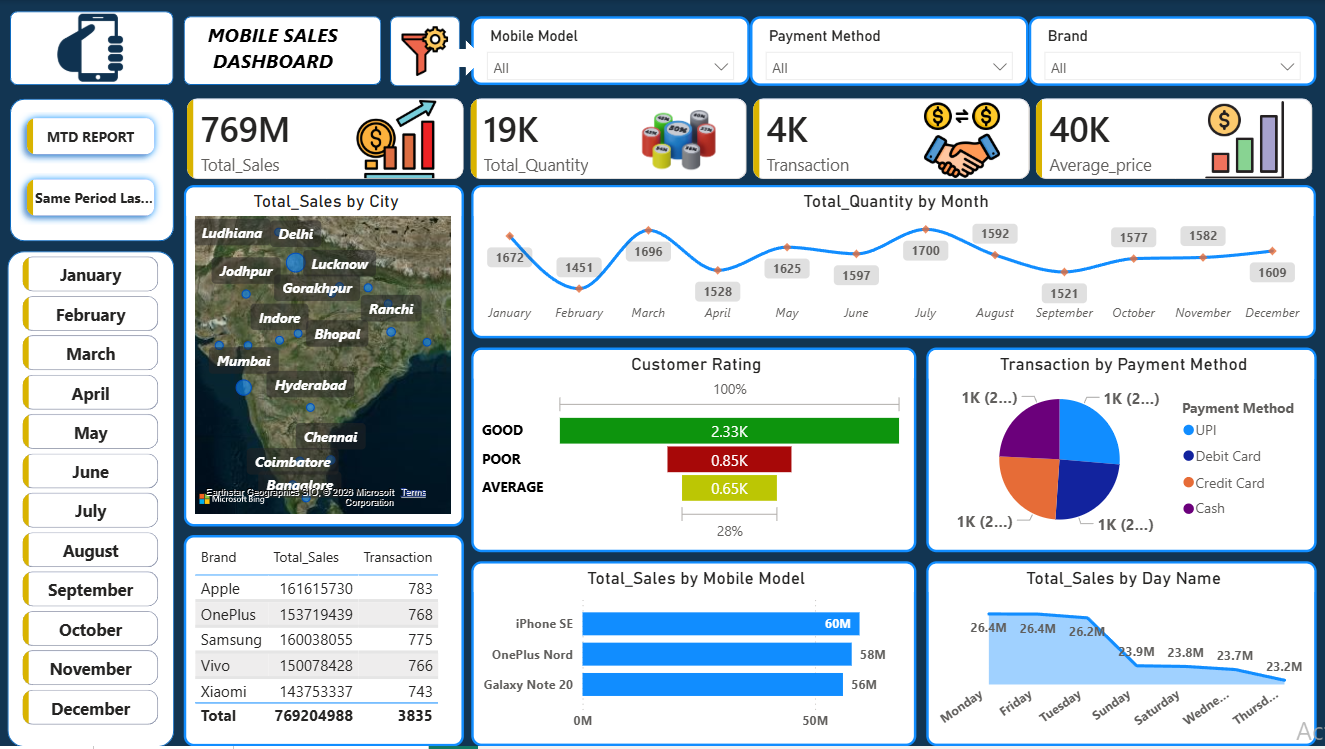

This screenshot's page, from the dashboard's own definition file:
{"tool":"powerbi","page":{"name":"DASHBOARD","canvas":[1280,720],"ordinal":0},"visuals":[{"type":"shape","box":[9.6,11,157.8,71.4],"z":0},{"type":"image","box":[52.1,13.7,70,65.9],"z":1000},{"type":"shape","box":[9.6,94.9,158.1,137.5],"z":2000},{"type":"shape","box":[6.9,242,160.9,478.6],"z":3000},{"type":"advancedSlicerVisual","fields":{"Values":["custom_calender.Date.Variation.Date Hierarchy.Month"]},"box":[16.5,242,141.6,466.2],"z":4000},{"type":"cardVisual","fields":{"Data":["Mobile_Sales_Data.Total_Sales","Mobile_Sales_Data.Total_Quantity","Mobile_Sales_Data.Transaction","Mobile_Sales_Data.Average_price"]},"box":[167.7,82,1112.3,105],"z":5000},{"type":"slicer","fields":{"Values":["Mobile_Sales_Data.Mobile Model"]},"box":[454.8,15.7,269,66.4],"z":6000},{"type":"slicer","fields":{"Values":["Mobile_Sales_Data.Payment Method"]},"box":[723.9,15.7,269,67.6],"z":7000},{"type":"slicer","fields":{"Values":["Mobile_Sales_Data.Brand"]},"box":[992.9,15.7,277.5,67.6],"z":8000},{"type":"shape","box":[376.4,15.7,67.6,67.6],"z":9000},{"type":"image","box":[376.4,25.3,67.6,48.3],"z":10000},{"type":"shape","box":[428.3,38.6,38.6,35],"z":11000},{"type":"shape","box":[177.3,15.7,190.6,66.4],"z":12000},{"type":"textbox","box":[195.4,15.7,172.5,63.9],"z":13000},{"type":"map","fields":{"Category":["Mobile_Sales_Data.City"],"Size":["Mobile_Sales_Data.Total_Sales"]},"box":[177.3,178.6,270.2,329.4],"z":14000},{"type":"lineChart","fields":{"Category":["custom_calender.Date.Variation.Date Hierarchy.Month"],"Y":["Mobile_Sales_Data.Total_Quantity"]},"box":[454.8,178.6,815.6,148.4],"z":15000},{"type":"funnel","title":"Customer Rating","fields":{"Y":["CountNonNull(Mobile_Sales_Data.Customer Ratings)"],"Category":["Mobile_Sales_Data.Rating_Status"]},"box":[454.8,335.4,429.5,197.9],"z":16000},{"type":"pieChart","fields":{"Y":["Mobile_Sales_Data.Transaction"],"Category":["Mobile_Sales_Data.Payment Method"]},"box":[894,335.4,376.4,197.9],"z":17000},{"type":"clusteredBarChart","fields":{"Y":["Mobile_Sales_Data.Total_Sales"],"Category":["Mobile_Sales_Data.Mobile Model"]},"box":[454.8,541.7,429.5,178.6],"z":18000},{"type":"areaChart","fields":{"Y":["Mobile_Sales_Data.Total_Sales"],"Category":["custom_calender.Day Name"]},"box":[894,541.7,376.4,178.6],"z":19000},{"type":"tableEx","fields":{"Values":["Mobile_Sales_Data.Brand","Mobile_Sales_Data.Total_Sales","Mobile_Sales_Data.Transaction"]},"box":[177.3,516.4,270.2,203.9],"z":20000},{"type":"pageNavigator","box":[16.9,105,141.2,112.2],"z":20001}]}

Visuals, with their boxes in screenshot pixels (x1, y1, x2, y2), scaled from the page's 1280x720 canvas onto the 1325x749 screenshot:
shape: crop(10, 11, 173, 86)
image: crop(54, 14, 126, 83)
shape: crop(10, 99, 174, 242)
shape: crop(7, 252, 174, 748)
advancedSlicerVisual - custom_calender.Date.Variation.Date Hierarchy.Month: crop(17, 252, 164, 737)
cardVisual - Mobile_Sales_Data.Total_Sales x Mobile_Sales_Data.Total_Quantity: crop(174, 85, 1324, 195)
slicer - Mobile_Sales_Data.Mobile Model: crop(471, 16, 749, 85)
slicer - Mobile_Sales_Data.Payment Method: crop(749, 16, 1028, 87)
slicer - Mobile_Sales_Data.Brand: crop(1028, 16, 1315, 87)
shape: crop(390, 16, 460, 87)
image: crop(390, 26, 460, 77)
shape: crop(443, 40, 483, 77)
shape: crop(184, 16, 381, 85)
textbox: crop(202, 16, 381, 83)
map - Mobile_Sales_Data.City x Mobile_Sales_Data.Total_Sales: crop(184, 186, 463, 528)
lineChart - custom_calender.Date.Variation.Date Hierarchy.Month x Mobile_Sales_Data.Total_Quantity: crop(471, 186, 1315, 340)
"Customer Rating" funnel: crop(471, 349, 915, 555)
pieChart - Mobile_Sales_Data.Transaction x Mobile_Sales_Data.Payment Method: crop(925, 349, 1315, 555)
clusteredBarChart - Mobile_Sales_Data.Total_Sales x Mobile_Sales_Data.Mobile Model: crop(471, 564, 915, 748)
areaChart - Mobile_Sales_Data.Total_Sales x custom_calender.Day Name: crop(925, 564, 1315, 748)
tableEx - Mobile_Sales_Data.Brand x Mobile_Sales_Data.Total_Sales: crop(184, 537, 463, 748)
pageNavigator: crop(17, 109, 164, 226)
